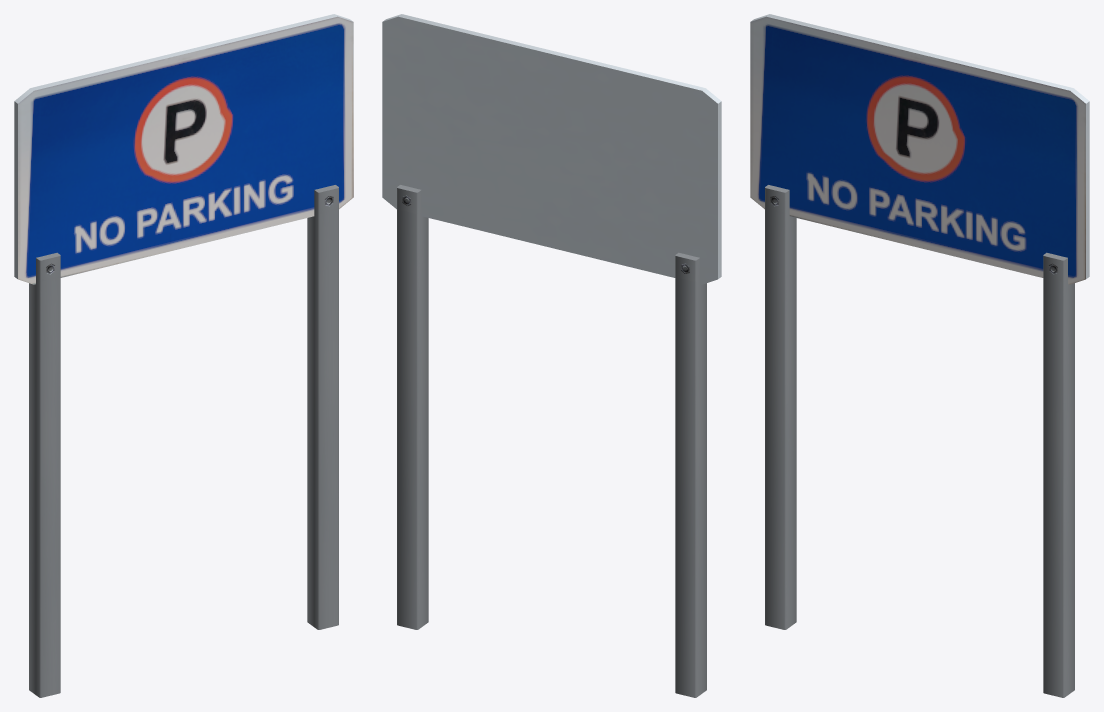
Rendered from StreetSigns_14.fbx.
The picture shows the model from 3 angles, left to right: view 1: azimuth 30°, elevation 25°; view 2: azimuth 150°, elevation 25°; view 3: azimuth 330°, elevation 25°; orthographic projection.
Parts seen in each view (by area): view 1: StreetSigns_14; view 2: StreetSigns_14; view 3: StreetSigns_14.
Boxes of the visible parts, left/top/right/bottom form: StreetSigns_14: left=14, top=14, right=353, bottom=697; StreetSigns_14: left=382, top=14, right=721, bottom=697; StreetSigns_14: left=750, top=14, right=1089, bottom=697.
Bounding box in the file's own units: 1.56 × 2.69 × 0.0956.
